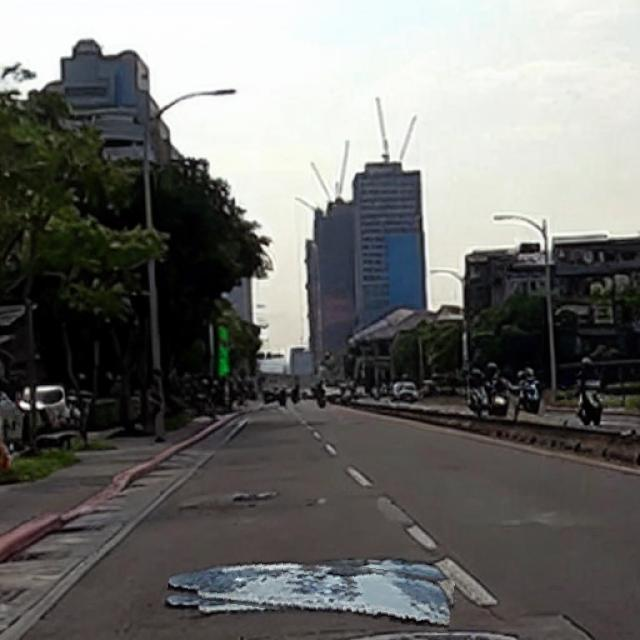puddle: (169, 550, 455, 625)
